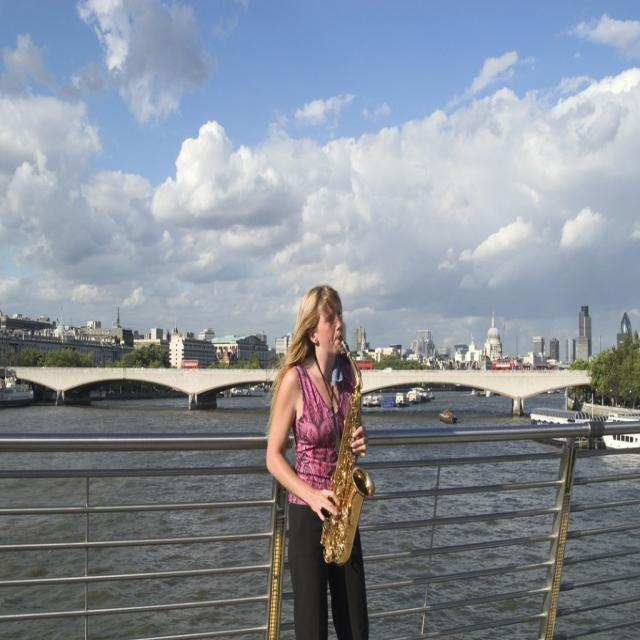saxophone: (318, 336, 376, 570)
